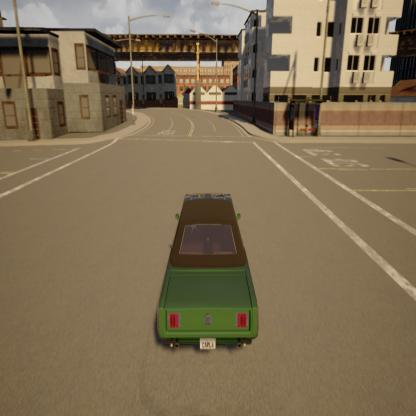Cars: (158, 194, 258, 350)
Pedestrian: (130, 103, 135, 126)
